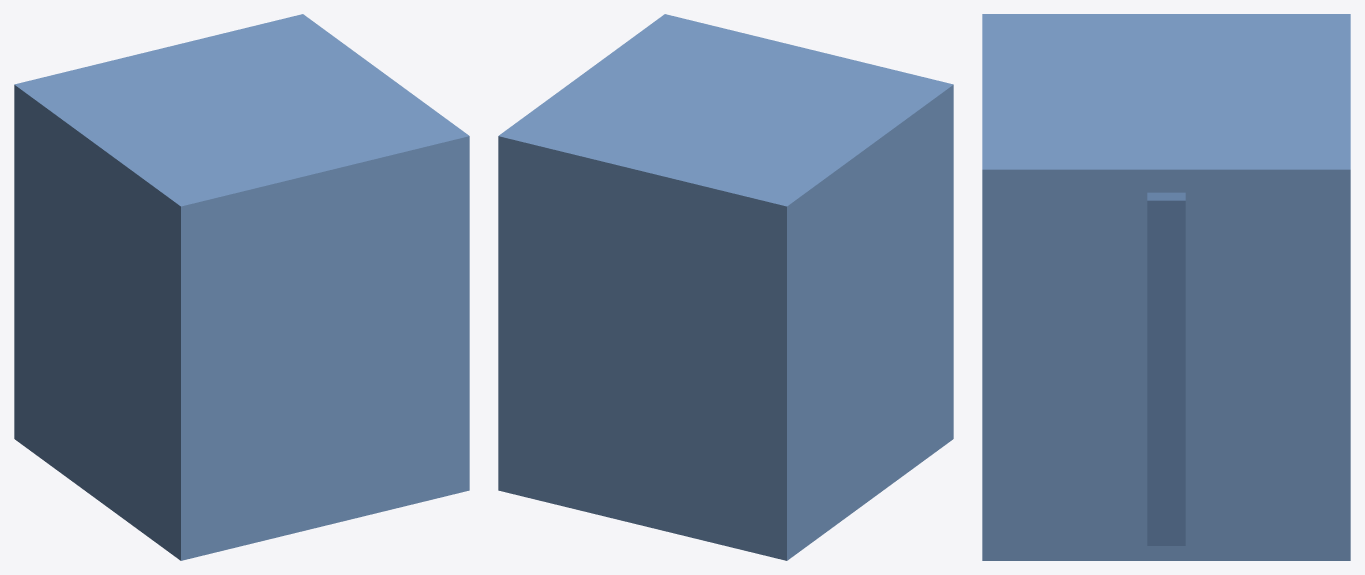
Rendered from jeans_jaqueta_manga_sup.glb.
3 views of the same model, side by side, from view 1: azimuth 30°, elevation 25°; view 2: azimuth 150°, elevation 25°; view 3: azimuth 270°, elevation 25° (orthographic). The views are drawn at different scales.
Parts seen in each view (by area): view 1: jeans_jaqueta_manga_sup; view 2: jeans_jaqueta_manga_sup; view 3: jeans_jaqueta_manga_sup.
Boxes of the visible parts, x1,y1,x2,y2 form: jeans_jaqueta_manga_sup: [14, 14, 469, 560]; jeans_jaqueta_manga_sup: [498, 14, 953, 560]; jeans_jaqueta_manga_sup: [982, 14, 1350, 560].
Size of the model in its own units: 0.305 by 0.34 by 0.29.
